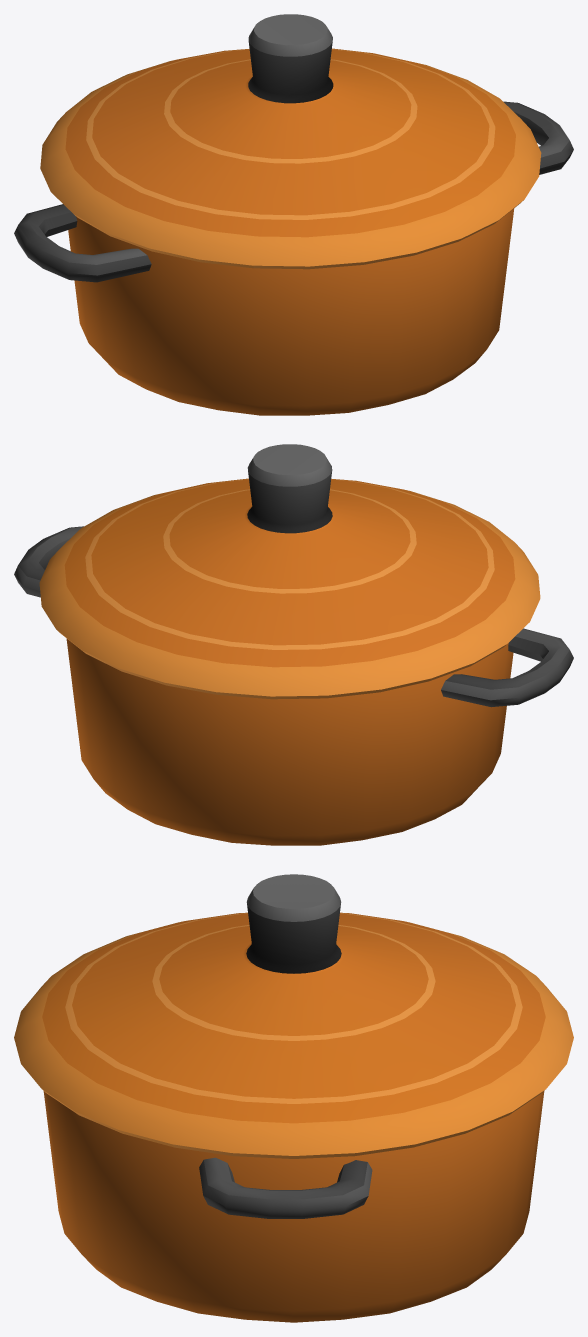
File: Pan_10.fbx
3 views of the same model, one above another, from view 1: azimuth 30°, elevation 25°; view 2: azimuth 150°, elevation 25°; view 3: azimuth 270°, elevation 25° (orthographic). The views are drawn at different scales.
Parts seen in each view (by area): view 1: Pan_10 Top, Pan_10; view 2: Pan_10 Top, Pan_10; view 3: Pan_10 Top, Pan_10.
Boxes of the visible parts, x1,y1,x2,y2 form: Pan_10 Top: (40, 14, 541, 269); Pan_10: (14, 101, 573, 415); Pan_10 Top: (39, 444, 540, 699); Pan_10: (14, 526, 573, 845); Pan_10 Top: (14, 874, 573, 1158); Pan_10: (43, 1091, 544, 1322).
Size of the model in its own units: 0.3038 by 0.1681 by 0.2526.
1 material, 1 textured.
